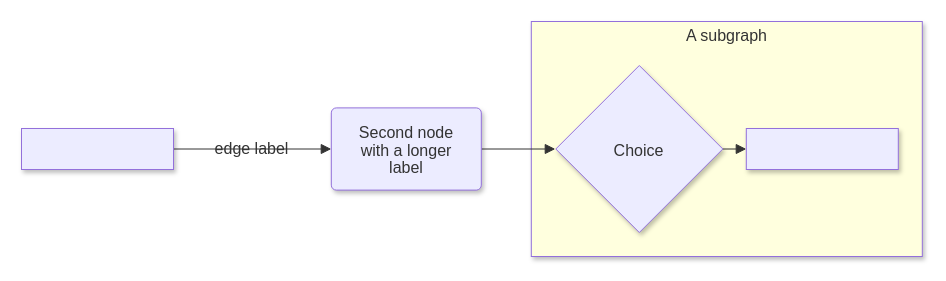
The diagram is 946 pixels wide and 281 high, and some of its shapes have lost their labels. The centre of each missing label's shape, as x and y in pixels:
"Done" goes at [822,150].
"Plain SVG text" goes at [98,150].
